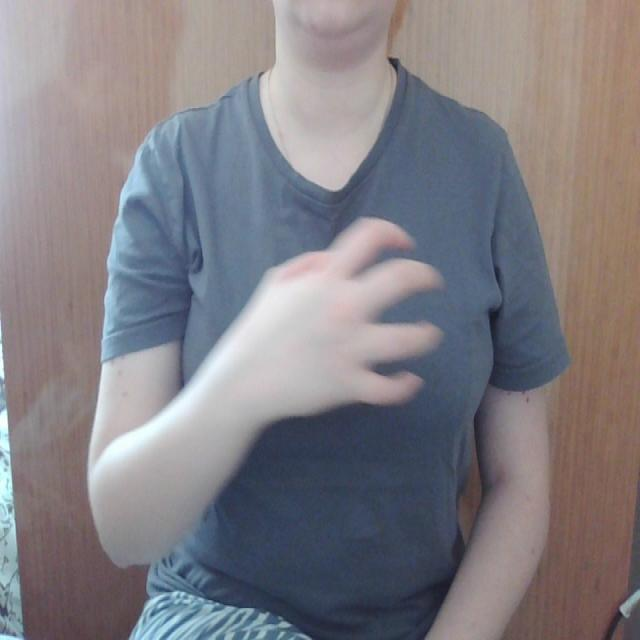Anne: (170, 212, 511, 421)
